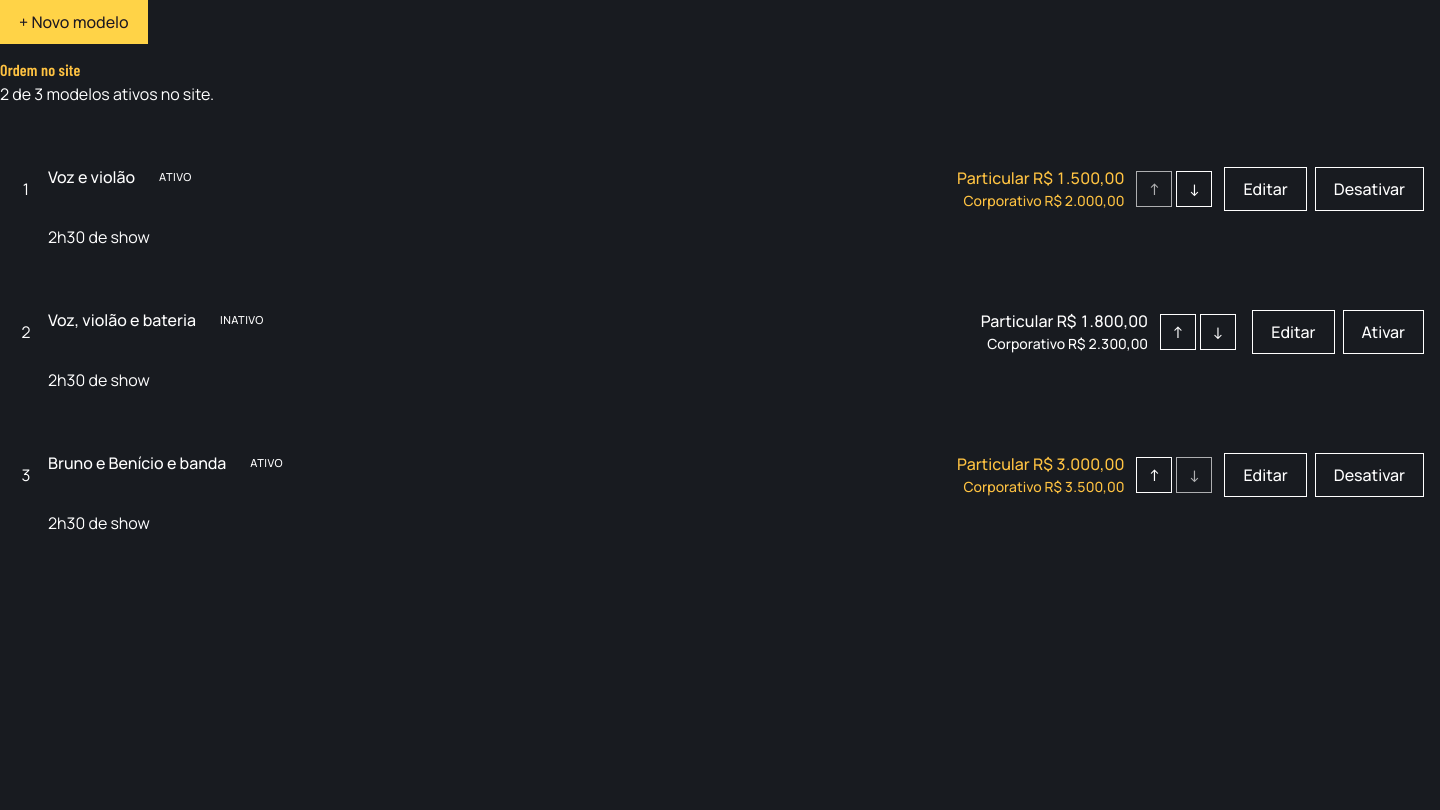
Modelos de Show (painel) › edição abre com os dados atuais e mostra o erro devolvido pelo servidor
Click the button with aria-label "Editar Voz e violão" at x=1266, y=188, box [1224, 166, 1307, 210]
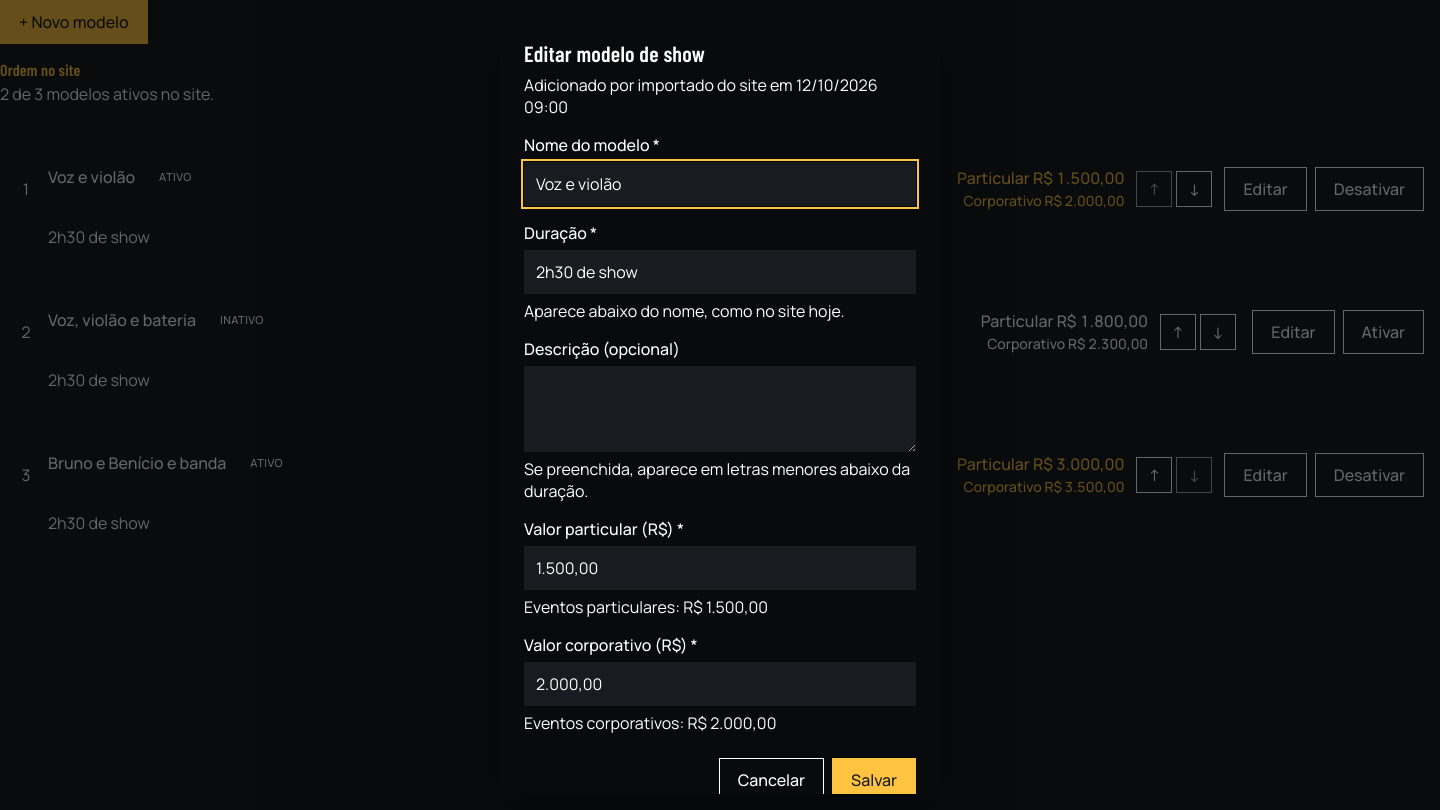
expect the field labelled "Nome do modelo *" holds "Voz e violão": met
expect the field labelled "Valor particular (R$) *" holds "1.500,00": met, box [524, 546, 916, 590]
Type "Bruno e Benício e banda" into the field labelled "Nome do modelo *" at x=720, y=184, box [524, 162, 916, 206]
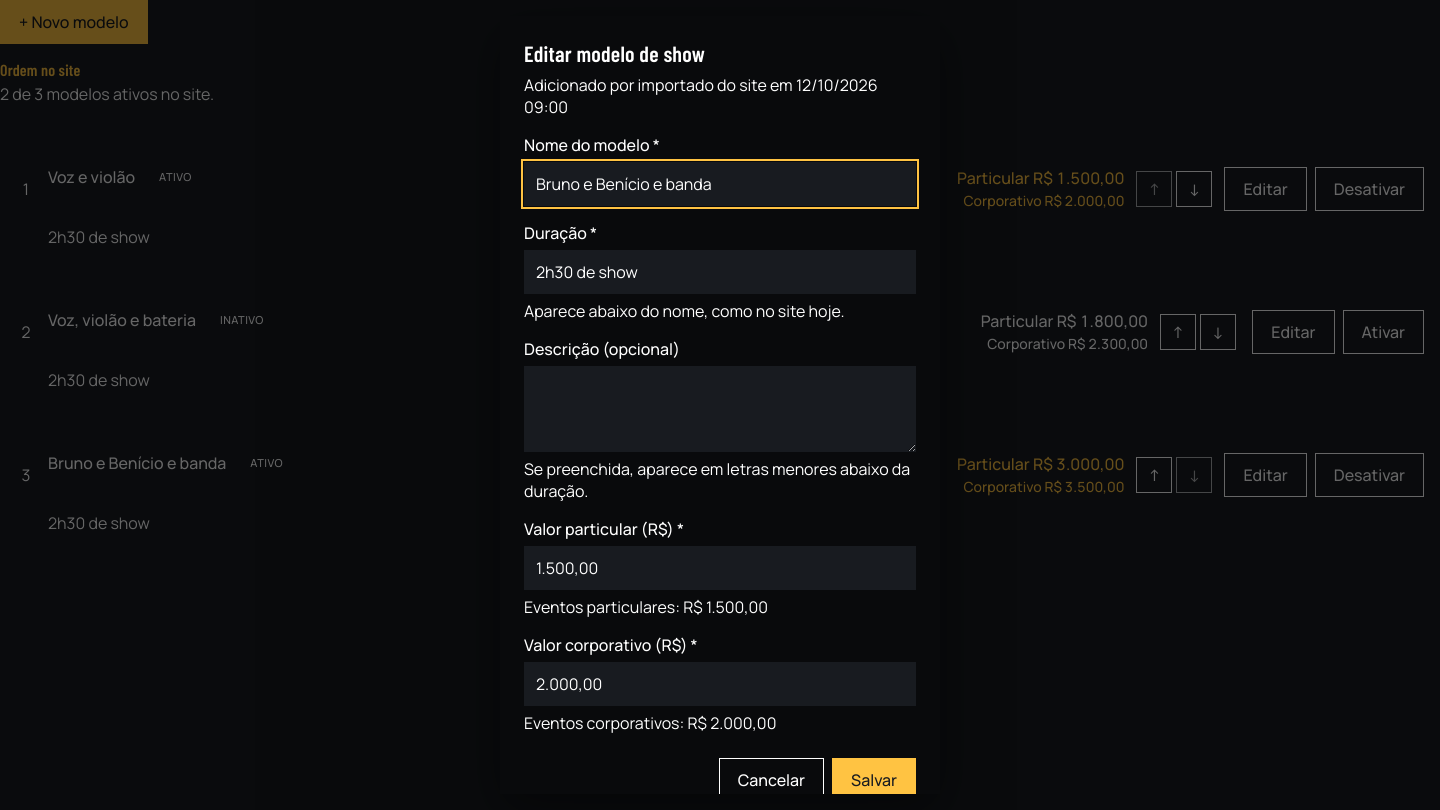
Click the button "Salvar" at x=874, y=780, box [832, 758, 916, 802]
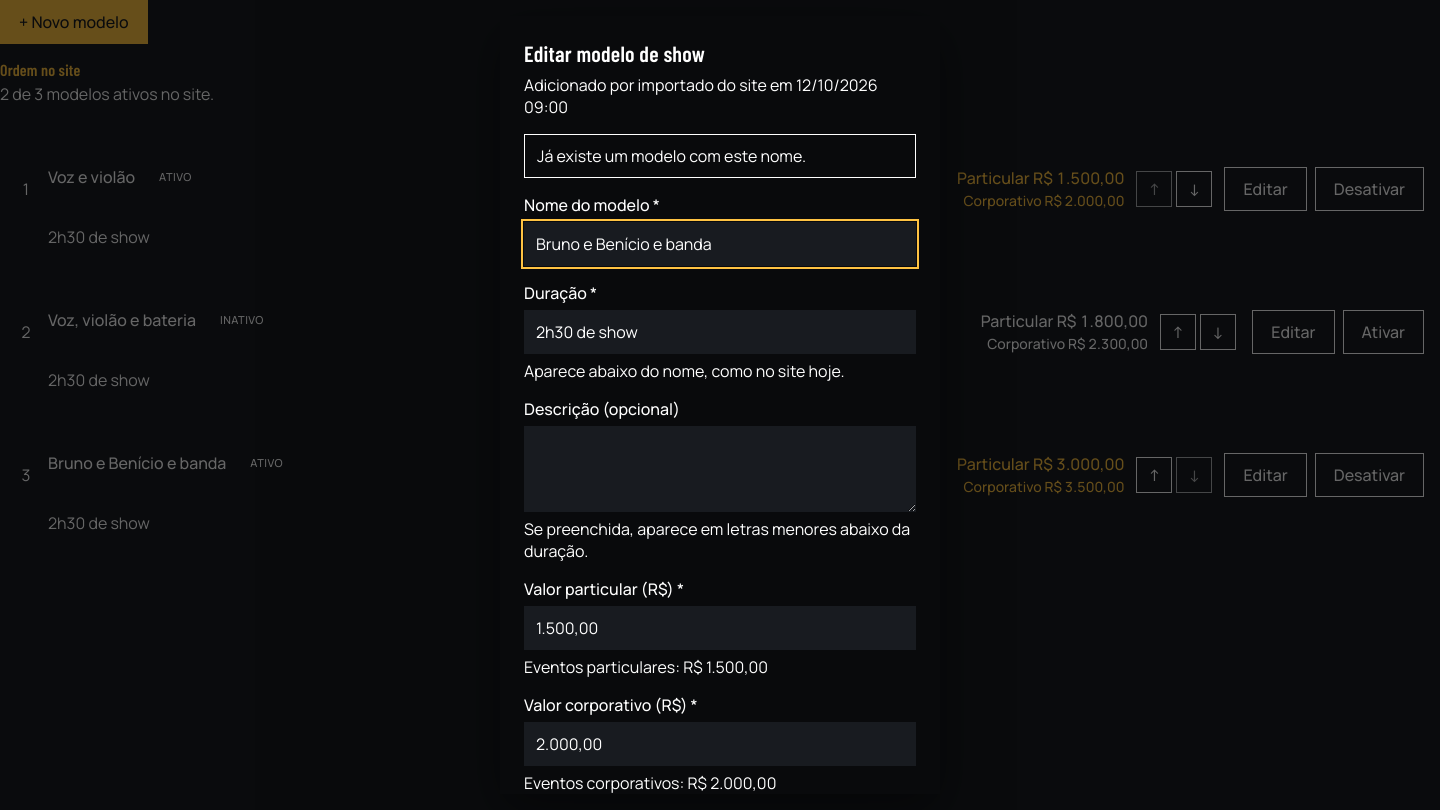
expect the message reads "Já existe um modelo com este nome.": met, box [537, 145, 806, 167]
